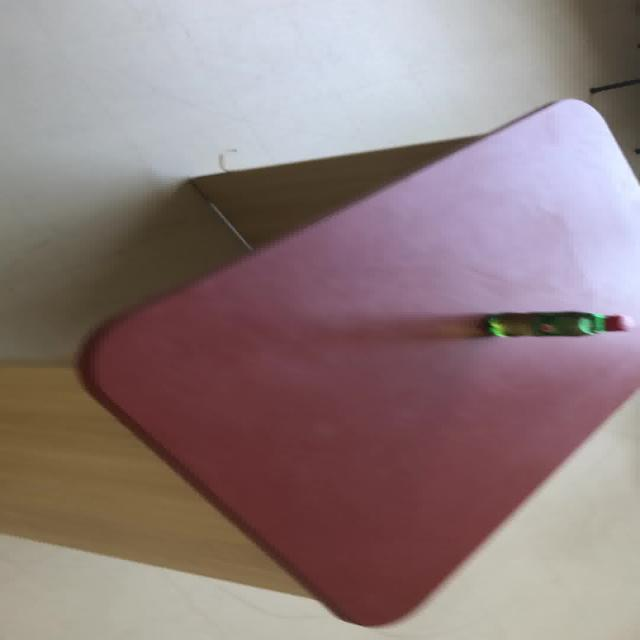guarana: (74, 97, 637, 627), (479, 309, 628, 338)
